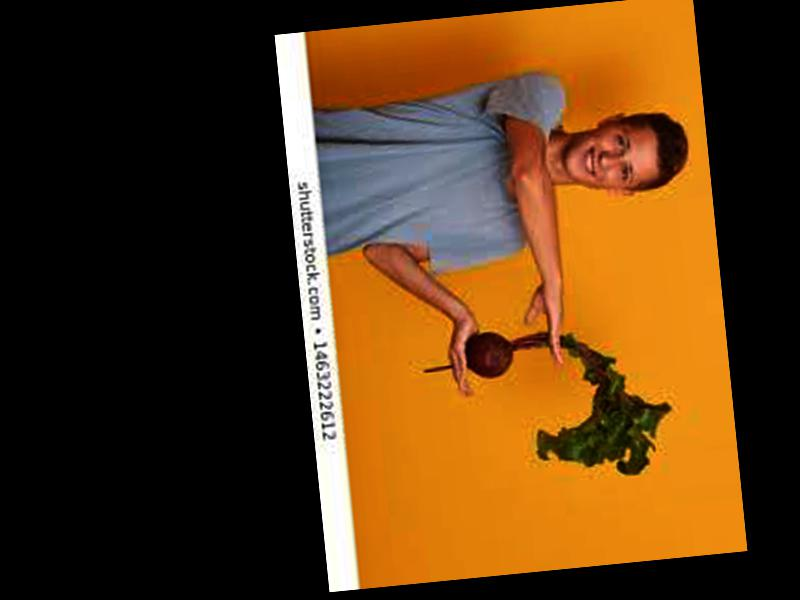Beet: (421, 315, 677, 494)
